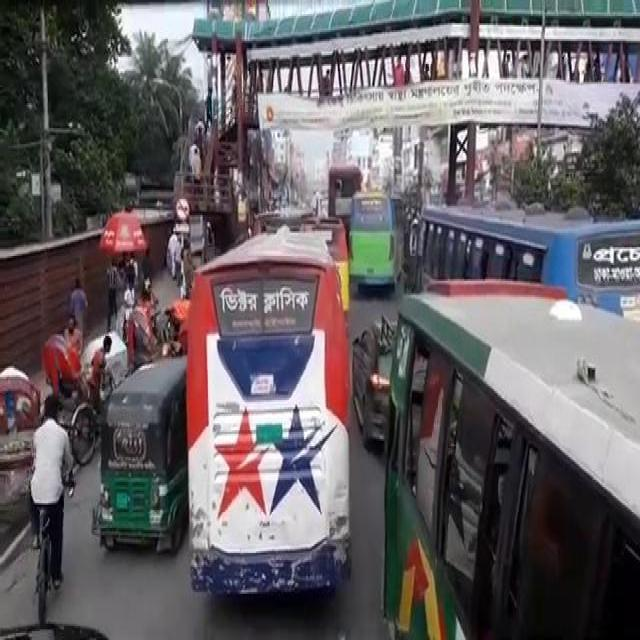bicycle: (34, 482, 74, 620)
bus: (381, 274, 639, 636), (186, 230, 350, 596), (411, 201, 639, 318), (347, 186, 405, 282), (326, 158, 364, 219)
car: (352, 318, 396, 446)
rickshaw: (40, 329, 116, 464), (0, 358, 41, 502), (121, 303, 175, 365)
three wheelers -CNG-: (91, 353, 187, 550)
